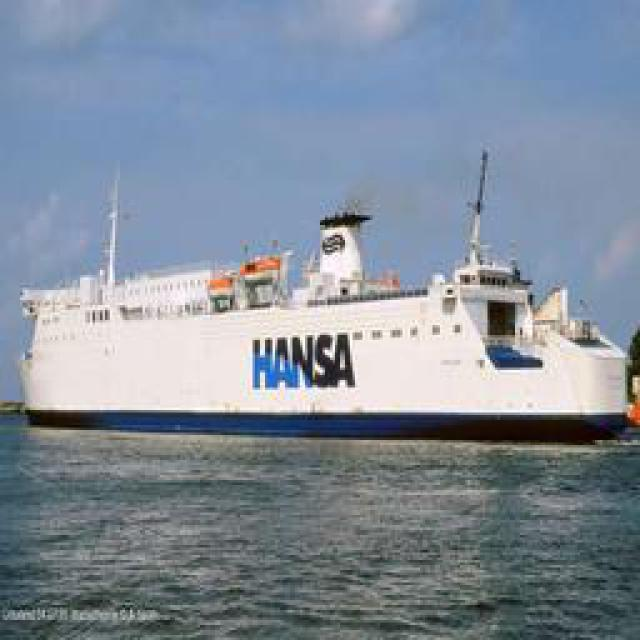Ship: (24, 136, 624, 434)
